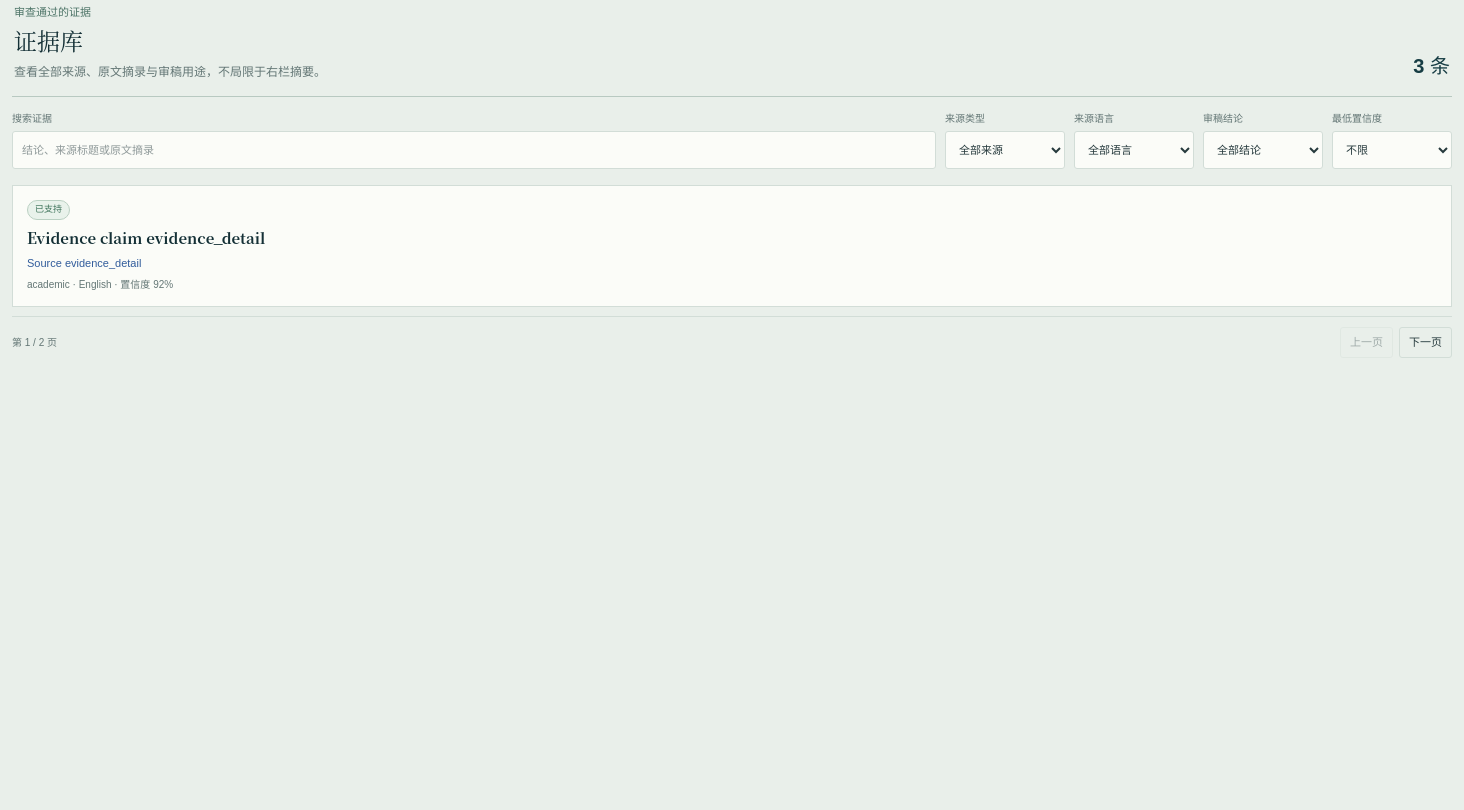
Scenario: evidence library › opens the complete evidence detail and source excerpt
Click the button that starts with "已支持": [732, 246] box [13,186,1451,306]
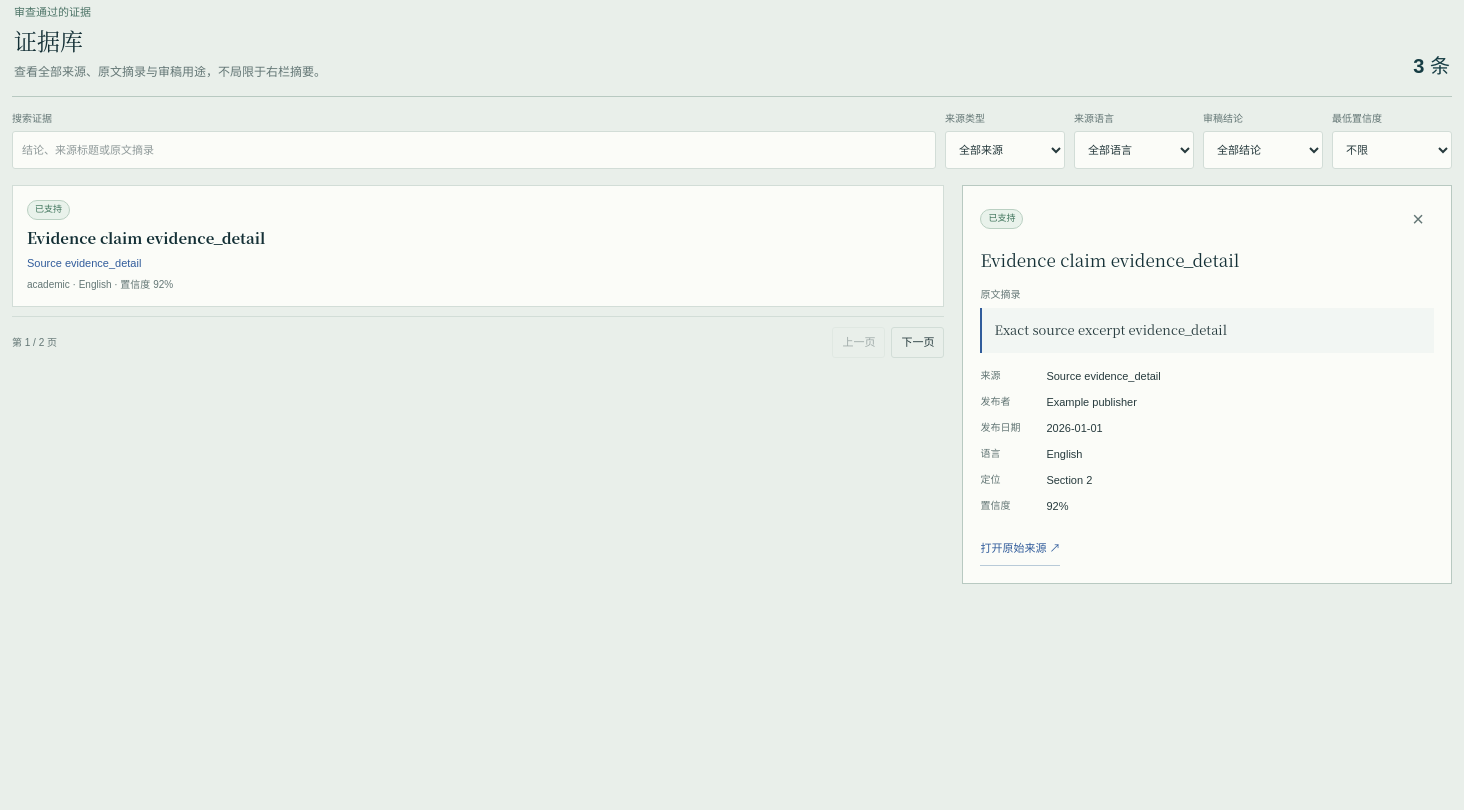
Expected: the element named "证据详情" shows "Exact source excerpt evidence_detail", [994,320,1227,339]
Expected: the element named "证据详情" shows "Example publisher", [1046,396,1137,408]
Expected: the link to "https://example.com/evidence_detail" is shown, [980,530,1060,566]
